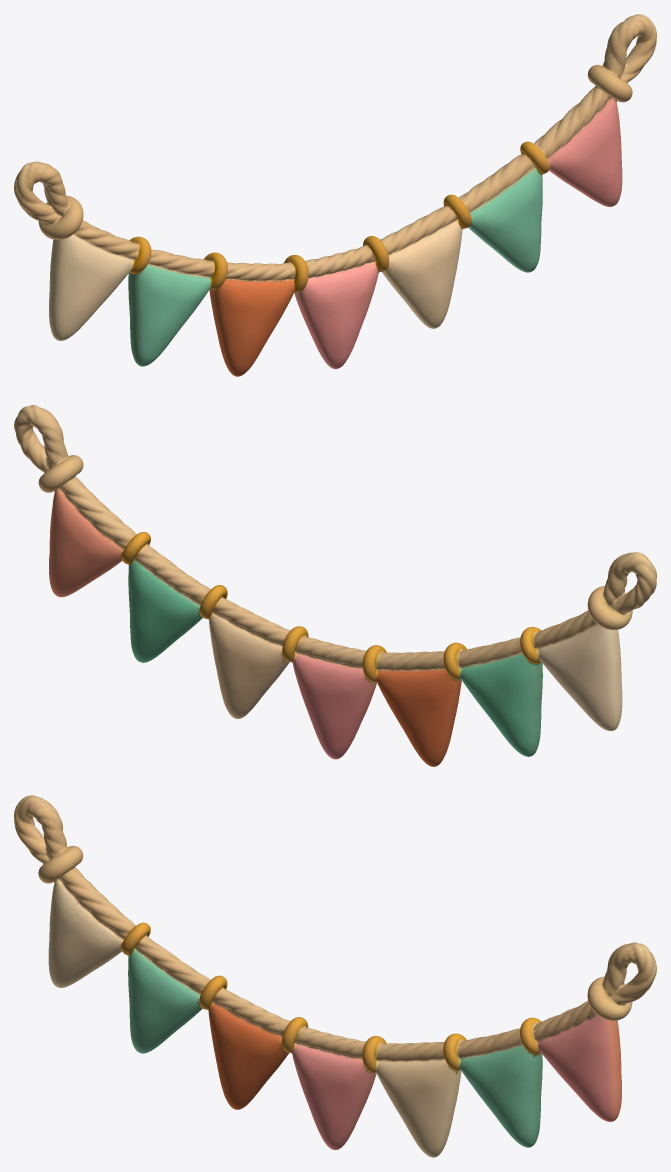
Rendered from Meshy_AI_model.glb.
3 renders of one model, top to bottom at view 1: azimuth 30°, elevation 25°; view 2: azimuth 150°, elevation 25°; view 3: azimuth 330°, elevation 25°, orthographic.
Visible parts, largest first — view 1: mesh_node; view 2: mesh_node; view 3: mesh_node.
Boxes of the visible parts, x1,y1,x2,y2 form: mesh_node: (14,14,656,376); mesh_node: (14,405,656,766); mesh_node: (14,795,656,1157).
Size of the model in its own units: 1.9 by 0.7917 by 0.141.
Materials: 1 (1 with a texture image).
